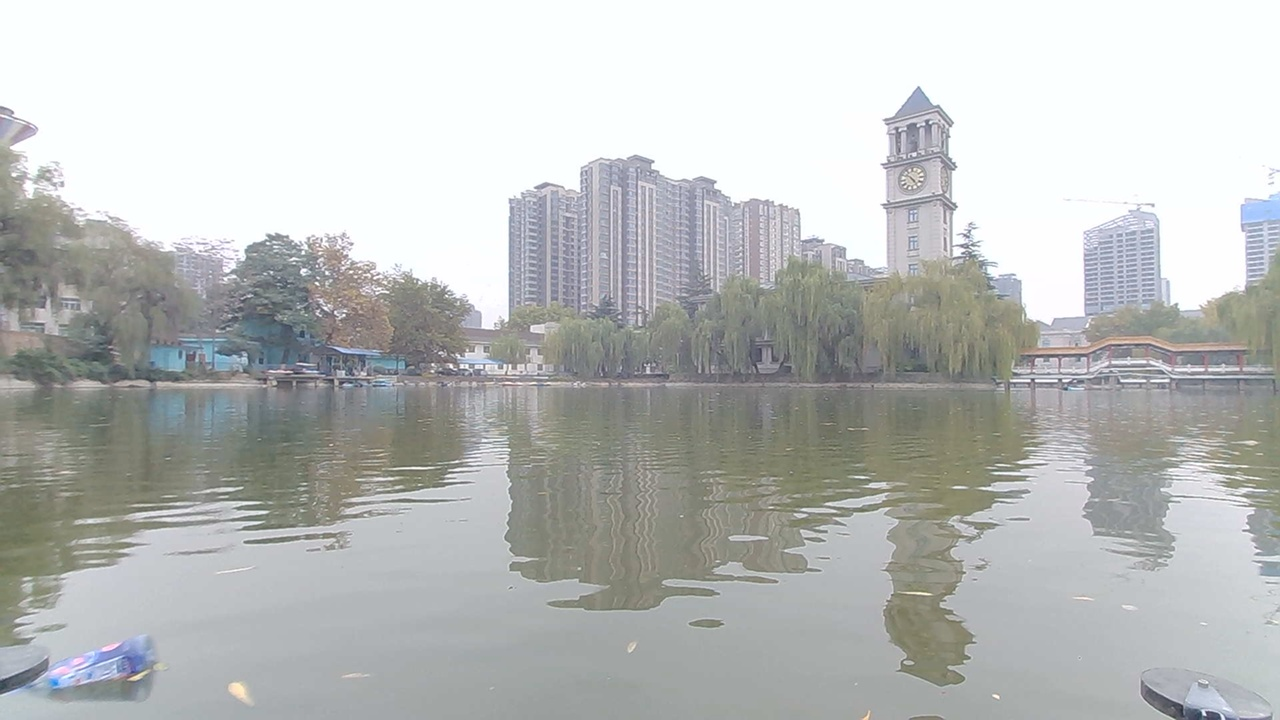bottle: (63, 641, 154, 699)
